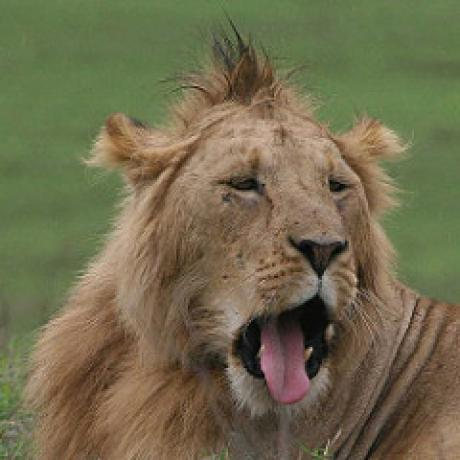Lion: (22, 52, 460, 460)
